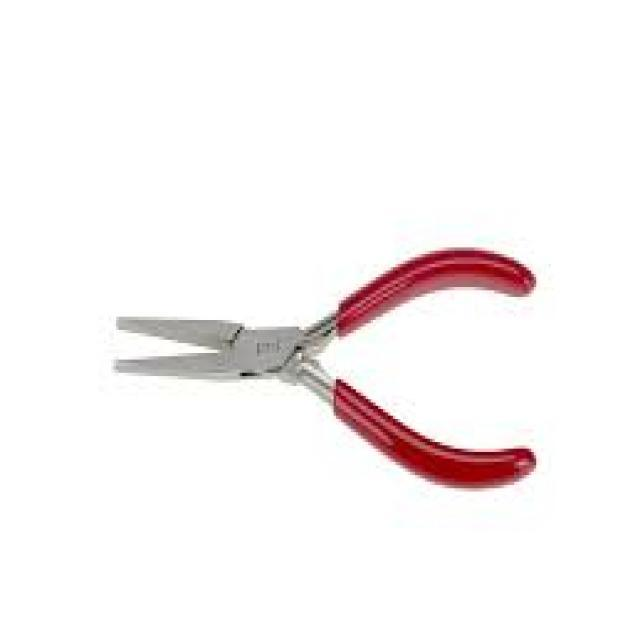pliers: (98, 236, 551, 499)
